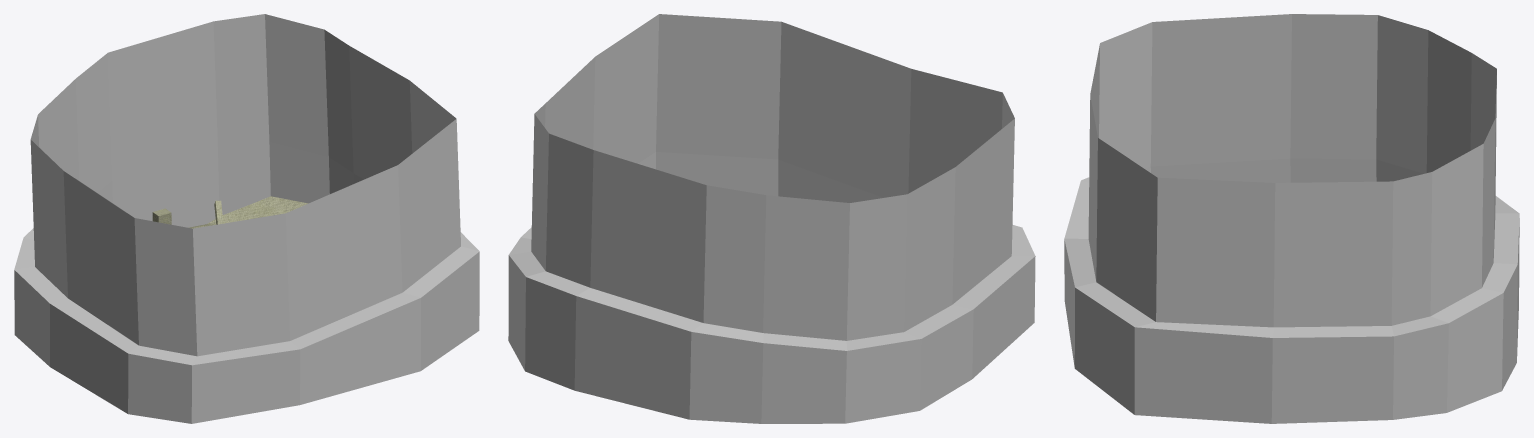
The model's file is SM_Chateaux_12_01.fbx.
3 renders of one model, left to right at view 1: azimuth 30°, elevation 25°; view 2: azimuth 150°, elevation 25°; view 3: azimuth 270°, elevation 25°, orthographic. The views are drawn at different scales.
Parts seen in each view (by area): view 1: SM_Chateaux_12_01.002, SM_Chateaux_12_01.001, SM_Chateaux_12_01; view 2: SM_Chateaux_12_01.002, SM_Chateaux_12_01.001; view 3: SM_Chateaux_12_01.002, SM_Chateaux_12_01.001.
Part boxes in pixels (box(x1,y1,x2,y2)): SM_Chateaux_12_01.002: box(30, 14, 460, 356); SM_Chateaux_12_01.001: box(14, 141, 479, 423); SM_Chateaux_12_01: box(152, 196, 308, 228); SM_Chateaux_12_01.002: box(531, 14, 1014, 340); SM_Chateaux_12_01.001: box(508, 152, 1035, 423); SM_Chateaux_12_01.002: box(1088, 14, 1496, 327); SM_Chateaux_12_01.001: box(1064, 158, 1519, 423).
Size of the model in its own units: 9105 by 6101 by 8573.
